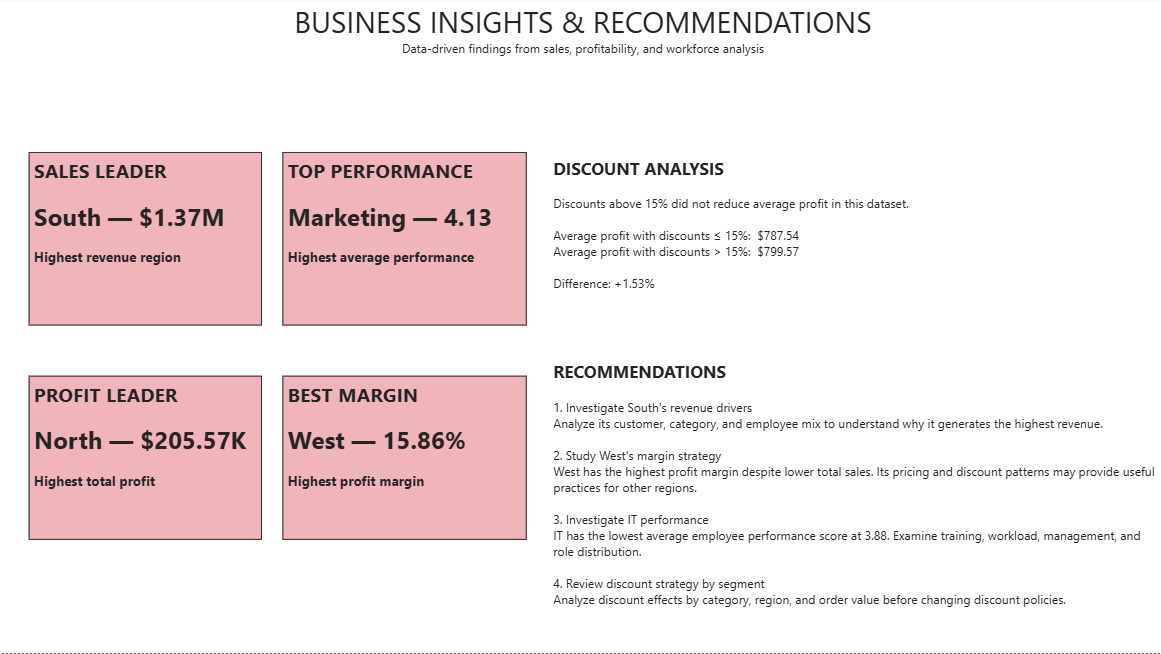

This screenshot's page, from the dashboard's own definition file:
{"tool":"powerbi","page":{"name":"Page 2","canvas":[1280,720],"ordinal":1},"visuals":[{"type":"textbox","box":[0,0,1280,80],"z":0},{"type":"textbox","box":[32,170,256,190],"z":1},{"type":"textbox","box":[32,416,256,180],"z":2},{"type":"textbox","box":[310,416,268,180],"z":3},{"type":"textbox","box":[310,170,268,190],"z":4},{"type":"textbox","box":[602,170,668,190],"z":5},{"type":"textbox","box":[602,394,678,326],"z":6}]}

Visuals, with their boxes in screenshot pixels (x1, y1, x2, y2), scaled from the page's 1280x720 canvas onto the 1161x654 screenshot:
textbox: rect(0, 0, 1160, 73)
textbox: rect(29, 154, 261, 327)
textbox: rect(29, 378, 261, 541)
textbox: rect(281, 378, 524, 541)
textbox: rect(281, 154, 524, 327)
textbox: rect(546, 154, 1152, 327)
textbox: rect(546, 358, 1160, 653)
